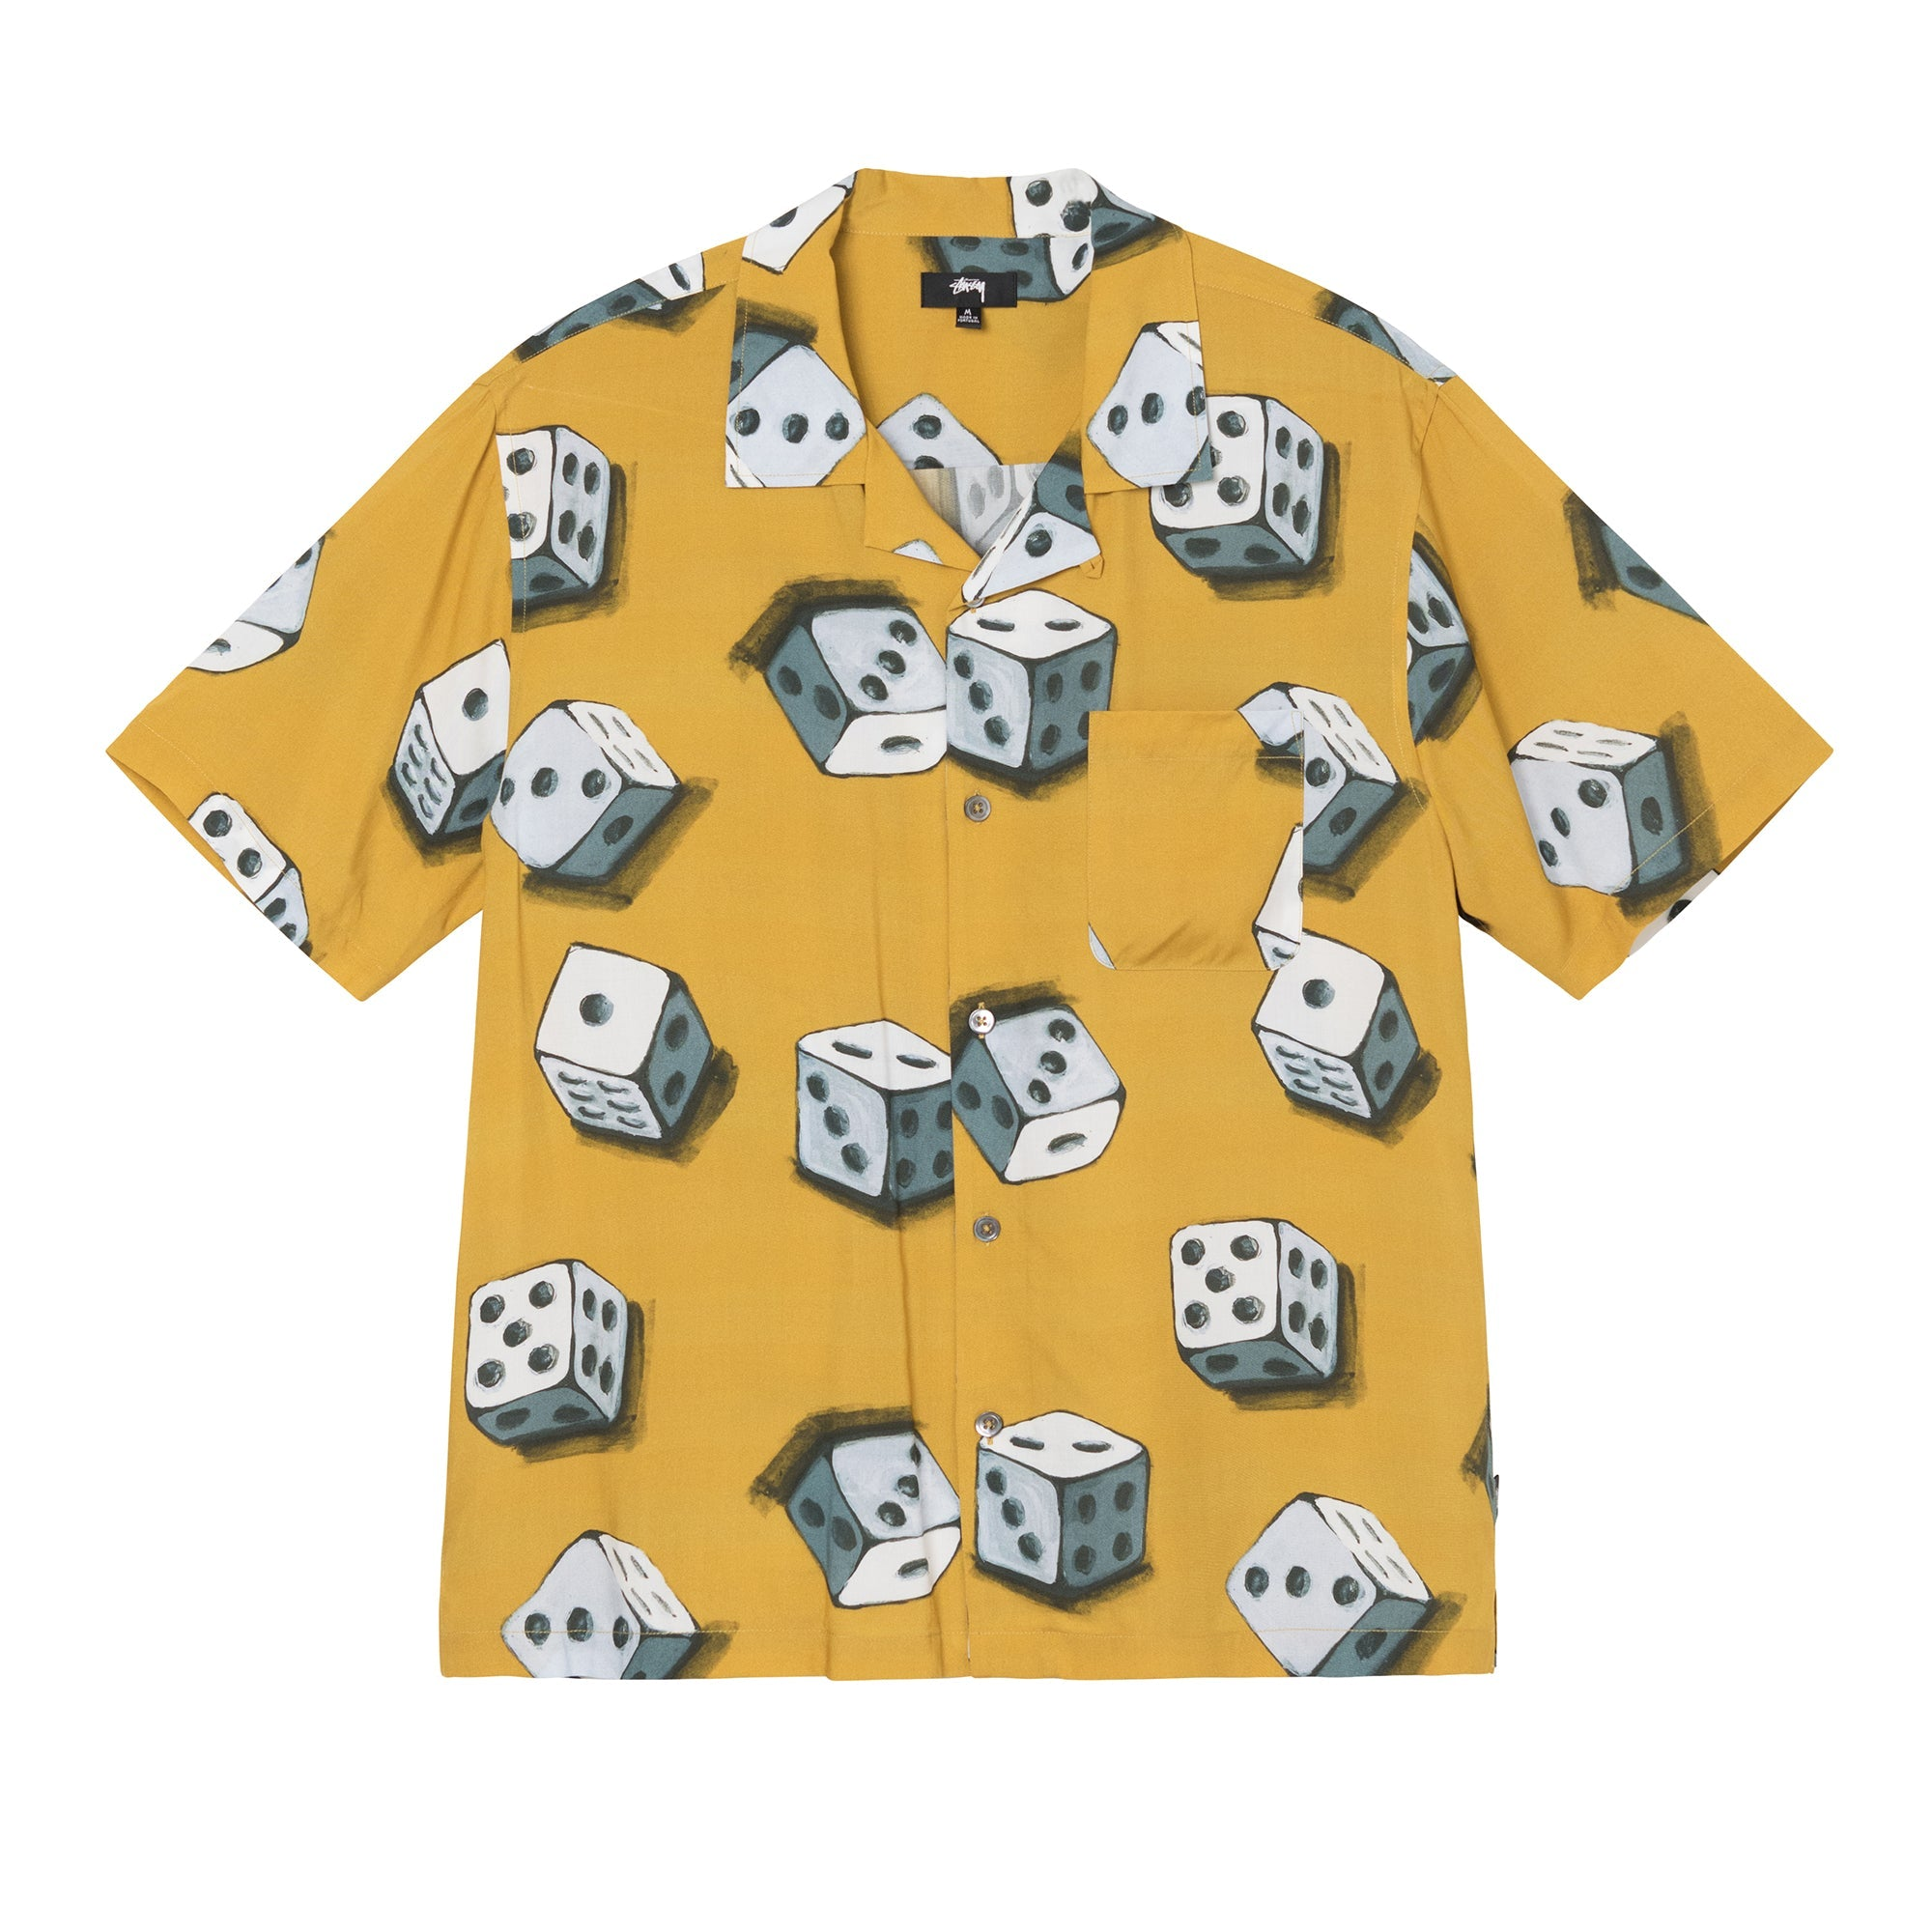short-sleeved official shirt: (99, 172, 1847, 1661)
